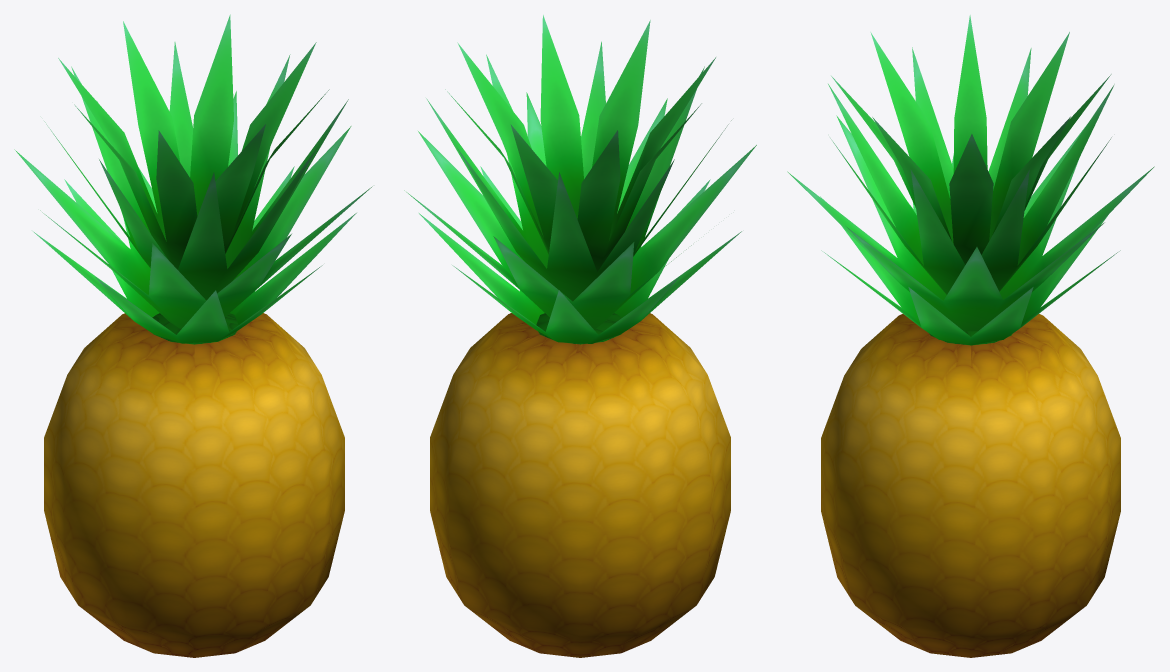
Rendered from pineapple.fbx.
3 views of the same model, side by side, from view 1: azimuth 30°, elevation 25°; view 2: azimuth 150°, elevation 25°; view 3: azimuth 270°, elevation 25° (orthographic).
Visible parts, largest first — view 1: pineapple_mesh; view 2: pineapple_mesh; view 3: pineapple_mesh.
Boxes of the visible parts, x1=… form: pineapple_mesh: x1=14, y1=14, x2=372, y2=657; pineapple_mesh: x1=404, y1=15, x2=756, y2=657; pineapple_mesh: x1=787, y1=15, x2=1154, y2=657.
Bounding box in the file's own units: 1.7 × 2.88 × 1.7.
